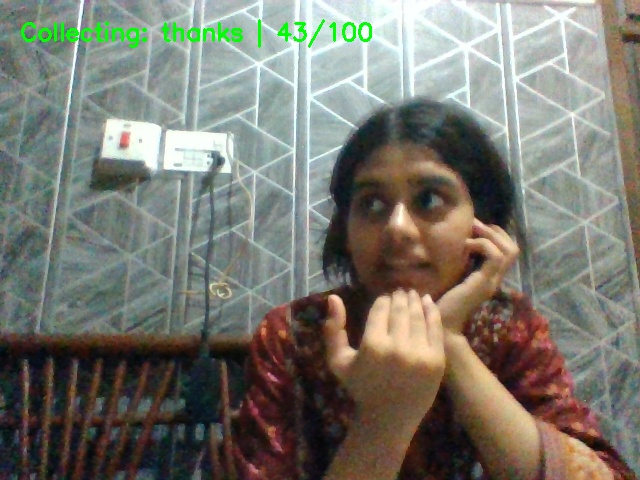thanks: (310, 277, 491, 475)
